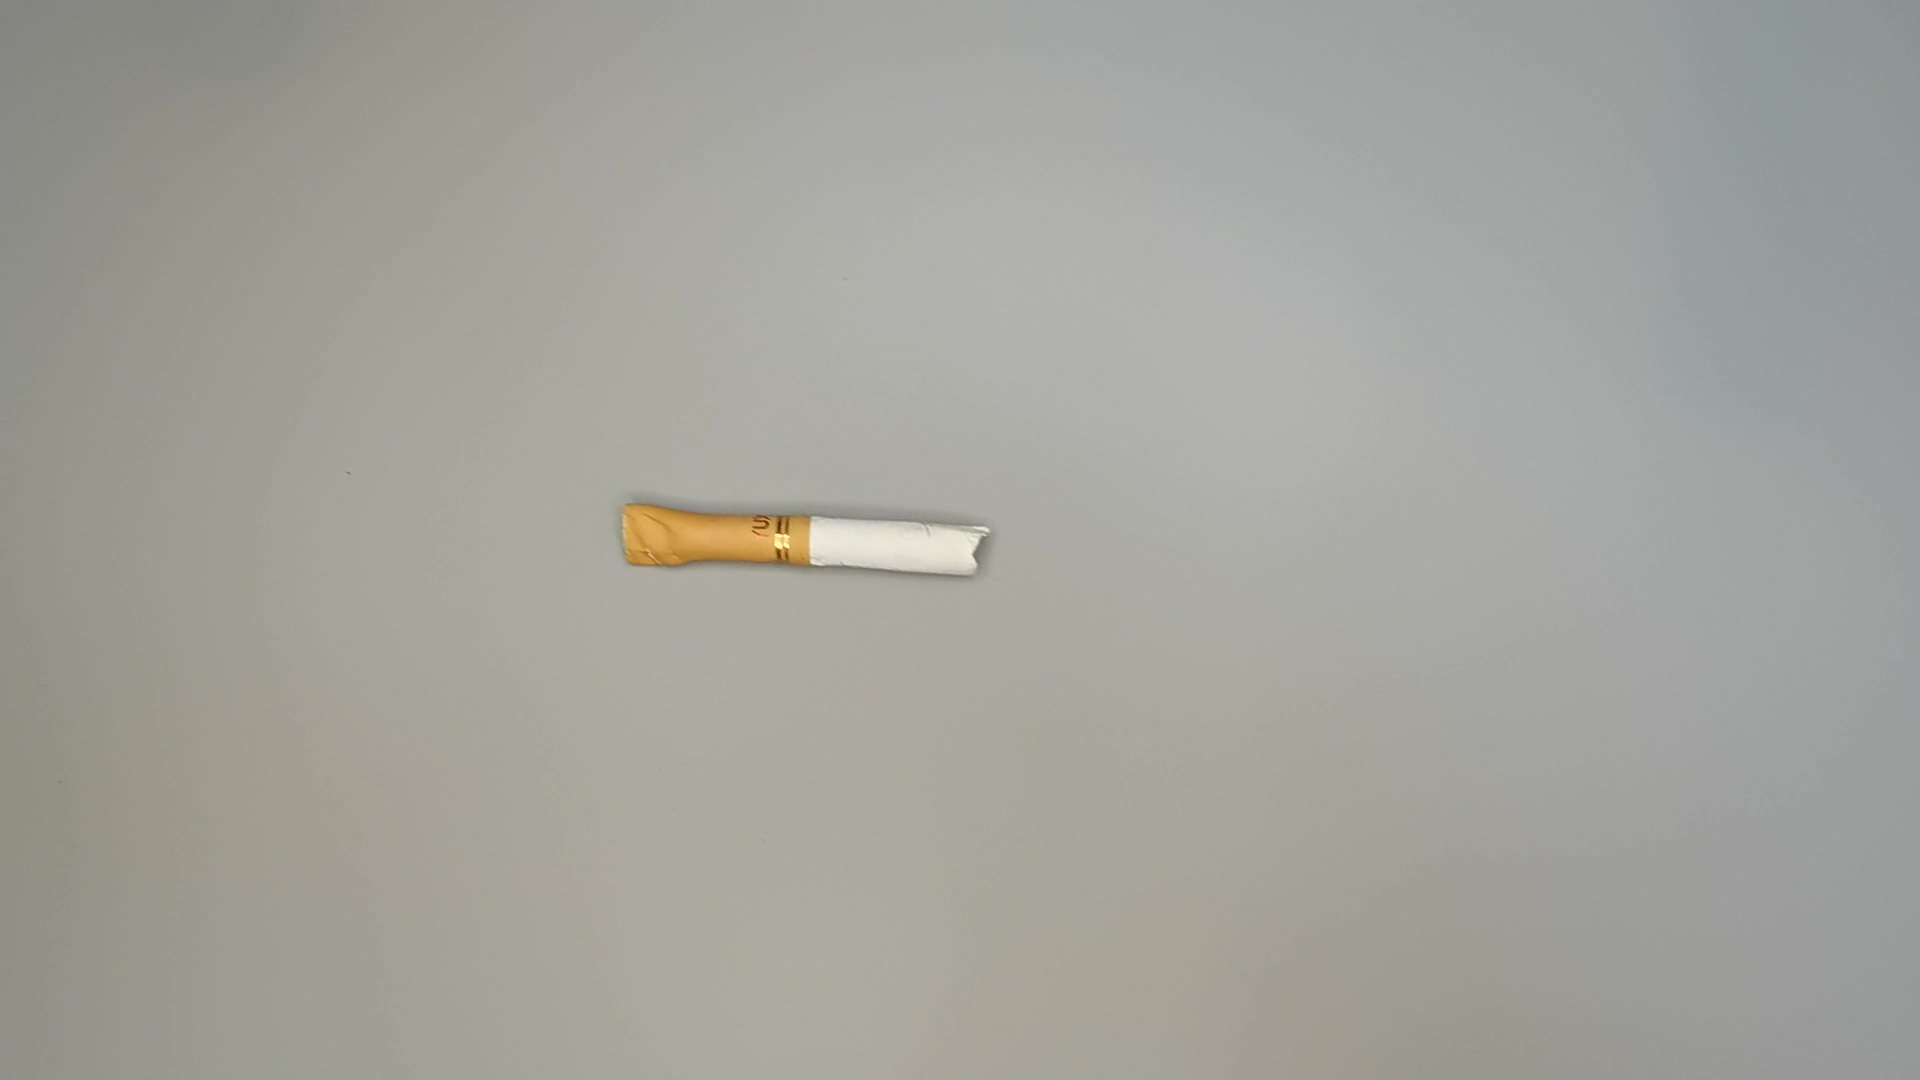cigarette: (615, 491, 1001, 593)
